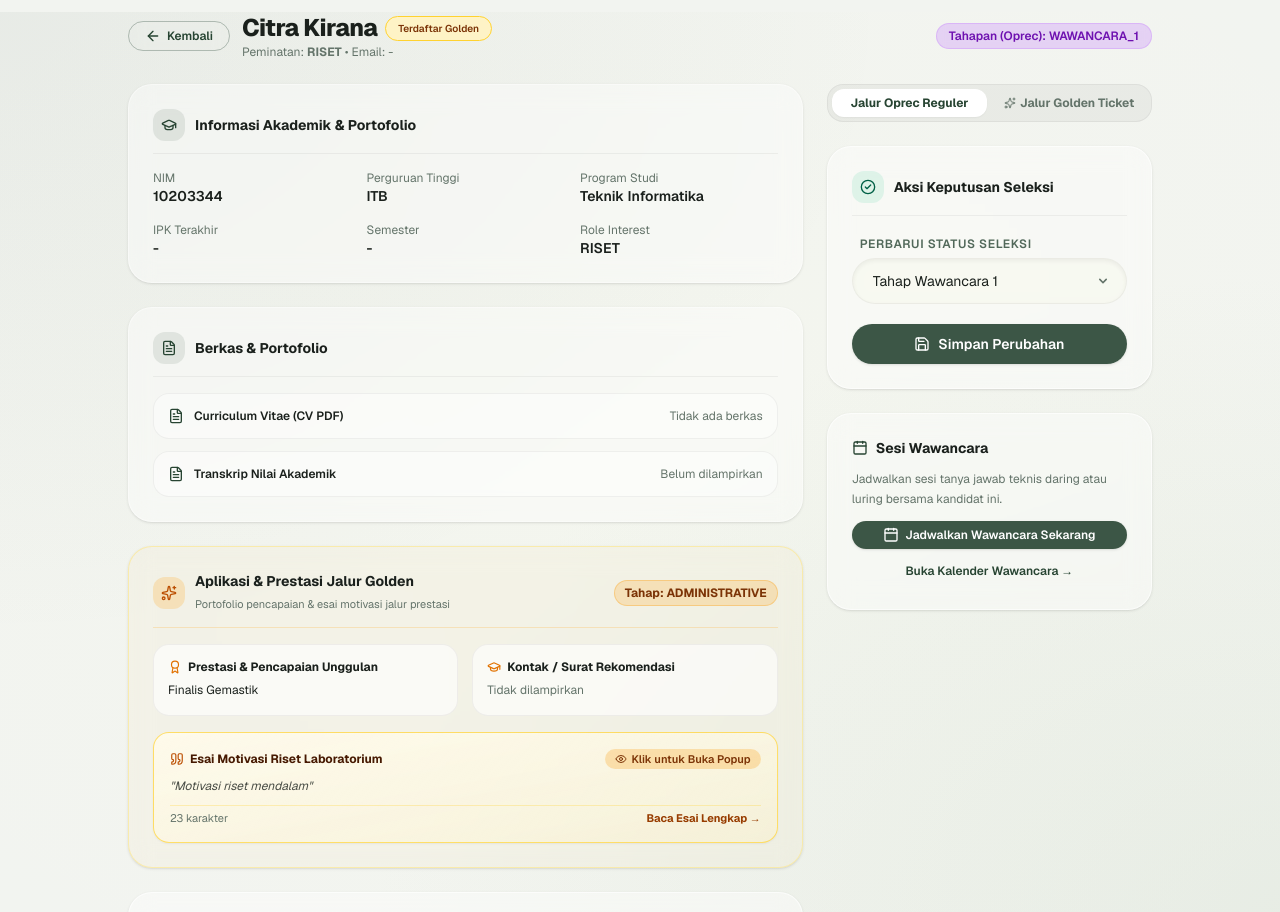
Test: app/admin/candidates/[id] › renders mode toggle and allows switching between Oprec decision and Golden decision when candidate has both
This screenshot has width=1280, height=912.
Expected: the heading "Aksi Keputusan Seleksi" is shown, [894, 177, 1054, 197]
Expected: the button "Jalur Oprec Reguler" is shown, [832, 89, 987, 117]
Click to switch to Golden decision
Click the button "Jalur Golden Ticket" at {"x": 1069, "y": 103}, box [991, 89, 1147, 117]
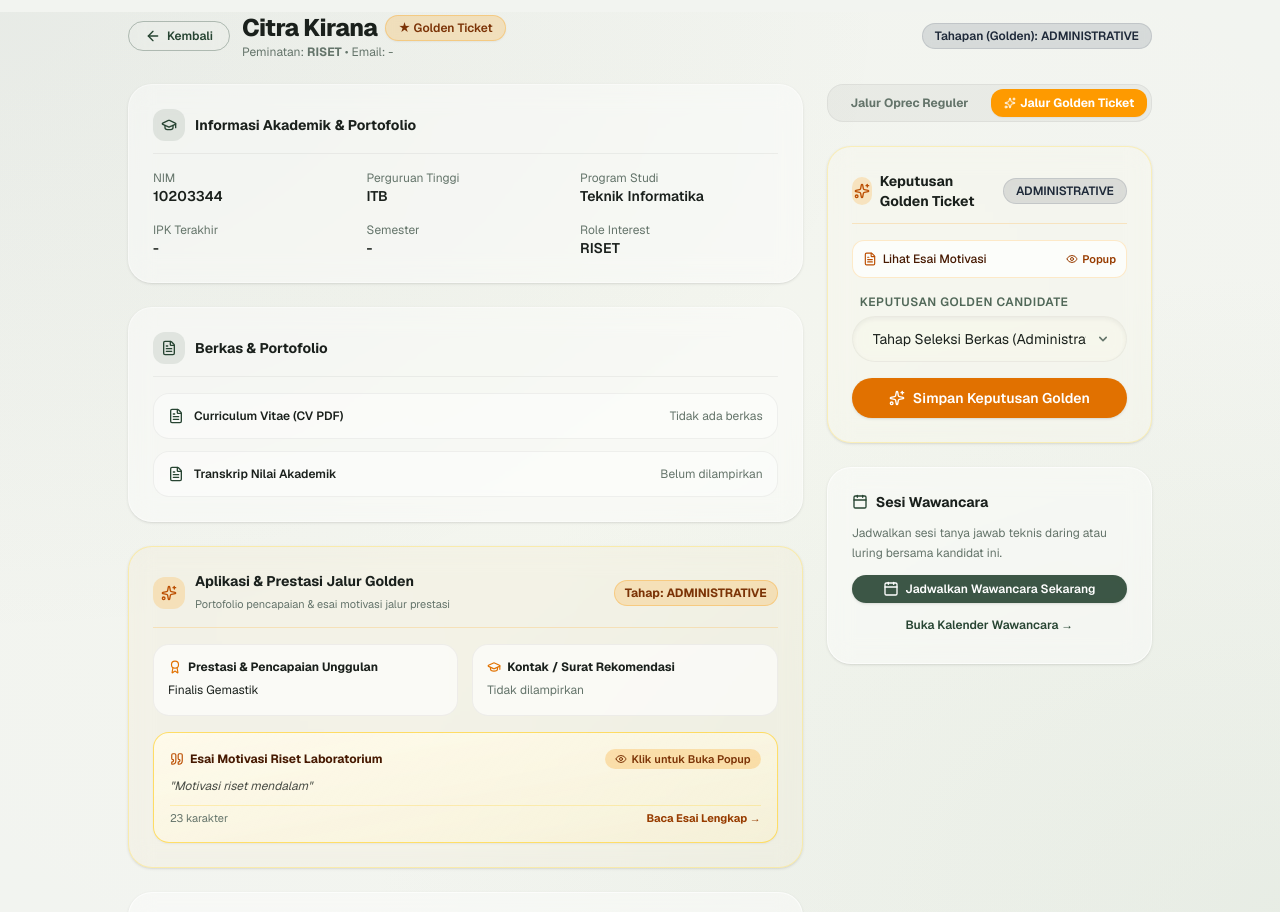
Result: the heading "Keputusan Golden Ticket" is shown at [880, 172, 974, 210]
Result: the heading "Aksi Keputusan Seleksi" is gone
Click to switch back to Oprec decision
Click the button "Jalur Oprec Reguler" at {"x": 910, "y": 103}, box [832, 89, 987, 117]
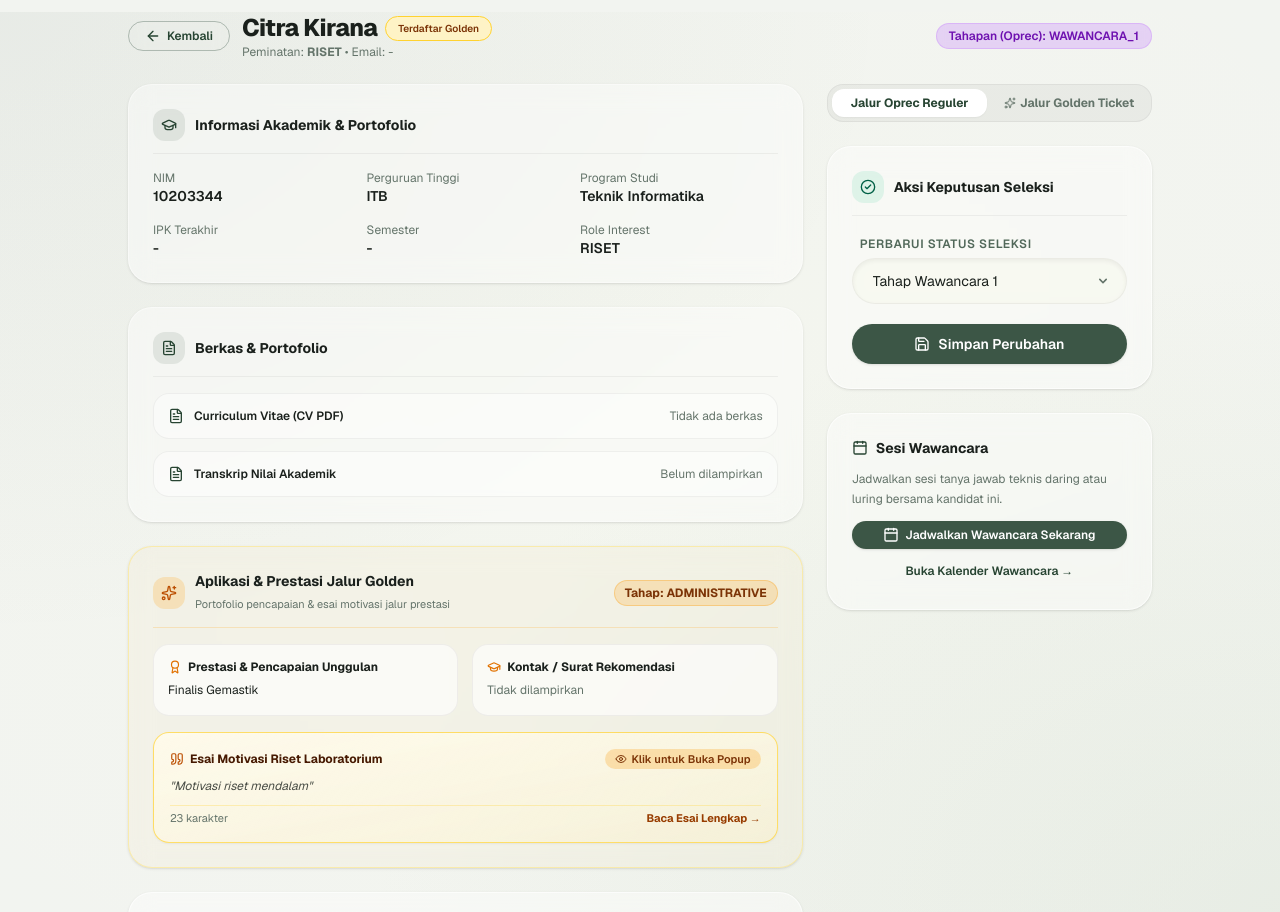
Result: the heading "Aksi Keputusan Seleksi" is shown at [894, 177, 1054, 197]
Result: the heading "Keputusan Golden Ticket" is gone
